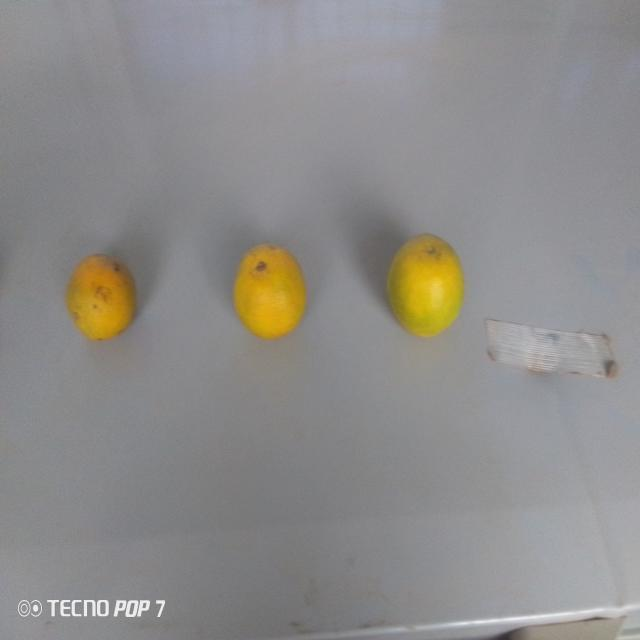Ripe orange: (388, 223, 467, 353), (231, 238, 309, 352), (66, 255, 140, 338)
